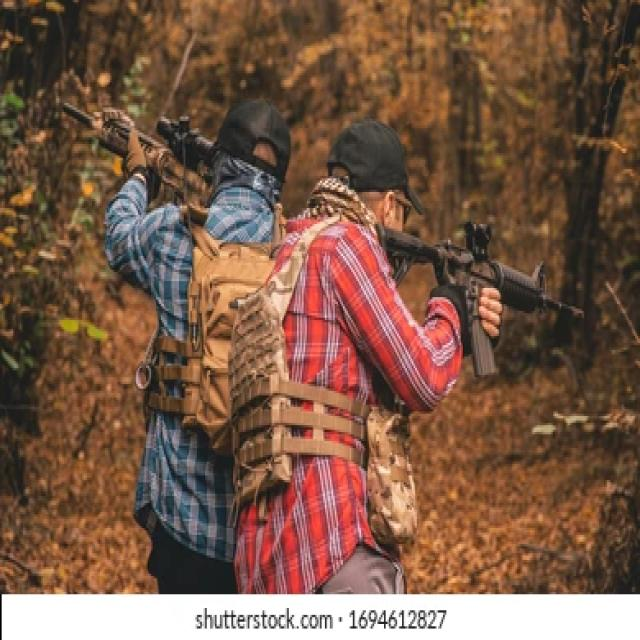soldier: (292, 137, 626, 633), (63, 57, 285, 610)
